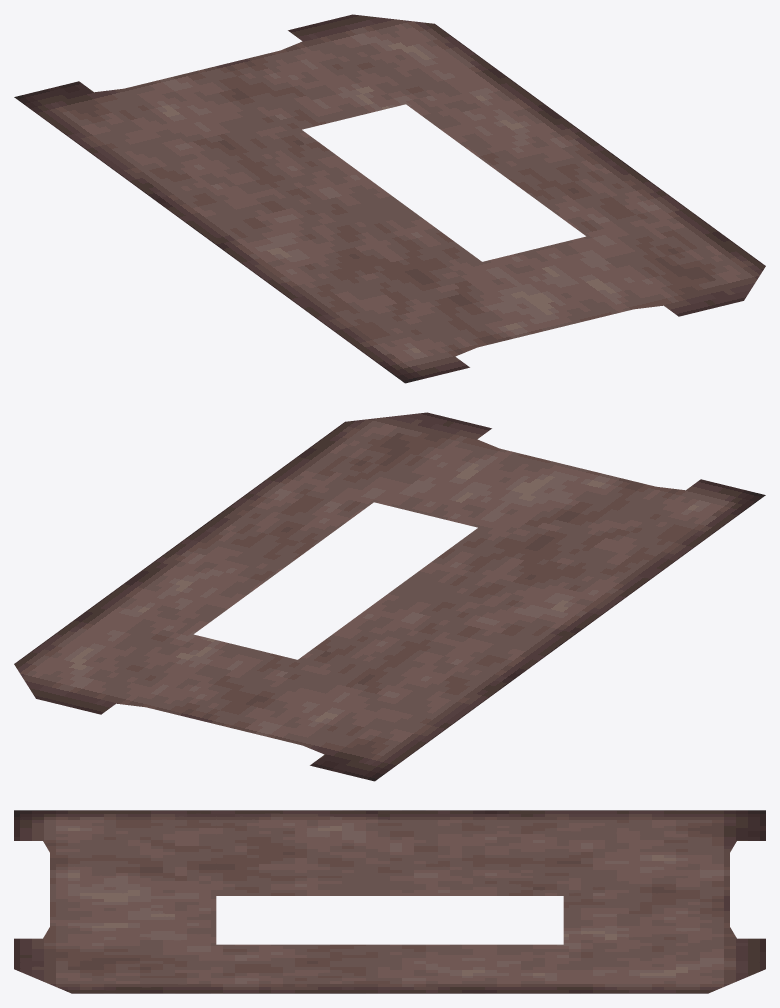
Rendered from F_GENTAN.1.obj.
The picture shows the model from 3 angles, top to bottom: view 1: azimuth 30°, elevation 25°; view 2: azimuth 150°, elevation 25°; view 3: azimuth 270°, elevation 25°; orthographic projection. The views are drawn at different scales.
Visible parts, largest first — view 1: F_GENTAN.1; view 2: F_GENTAN.1; view 3: F_GENTAN.1.
Boxes of the visible parts, x1,y1,x2,y2 form: F_GENTAN.1: (14,14,765,383); F_GENTAN.1: (14,412,765,781); F_GENTAN.1: (14,810,765,993).
Bounding box in the file's own units: 480 × 0 × 832.
